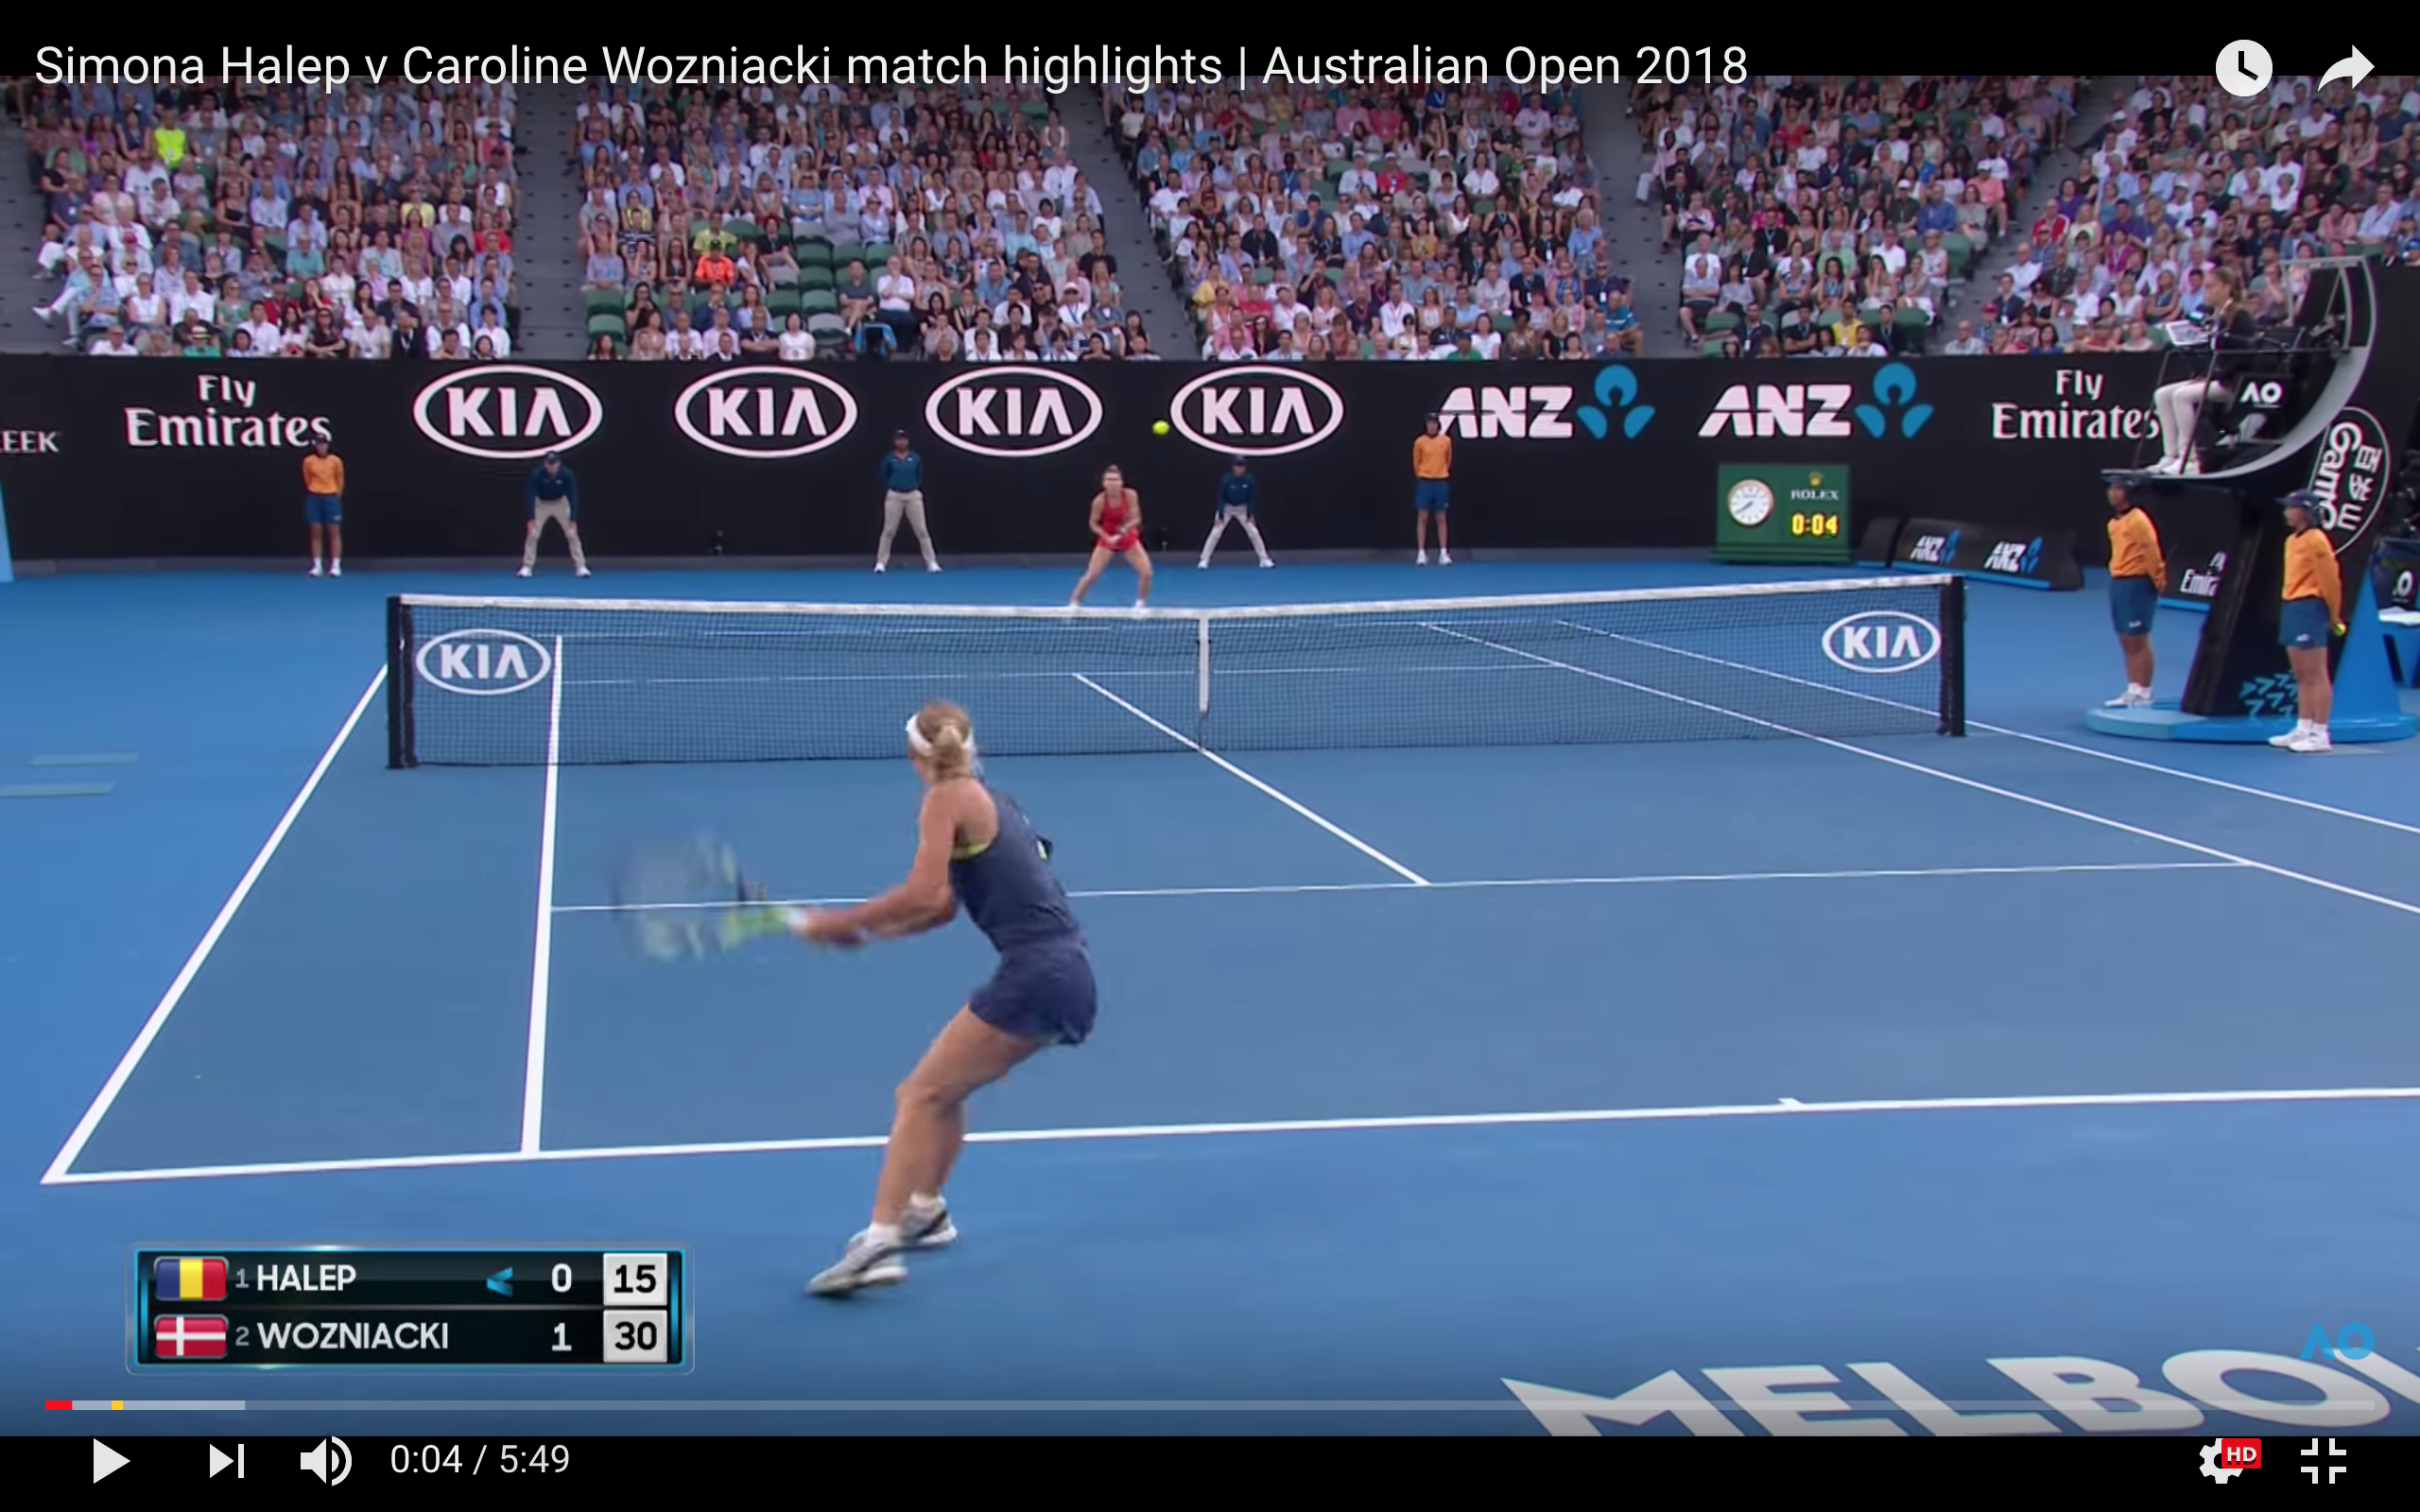tennis ball: (1145, 410, 1176, 443)
tennis player: (784, 694, 1113, 1305), (1064, 461, 1163, 609)
